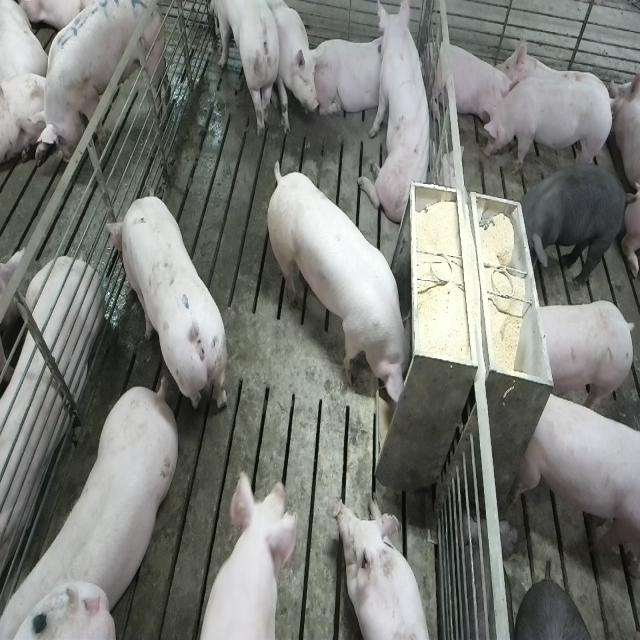Feeding: (271, 162, 420, 410)
Sitting: (363, 4, 437, 230), (210, 0, 282, 142), (266, 2, 318, 143)
Standing: (5, 373, 184, 633), (105, 195, 226, 419), (518, 386, 638, 576), (27, 0, 164, 157), (194, 469, 303, 640), (515, 158, 626, 288), (481, 76, 618, 179), (534, 298, 635, 414)
Sternal_lying: (0, 254, 101, 582), (333, 495, 434, 640), (429, 36, 512, 132), (311, 35, 389, 121)
